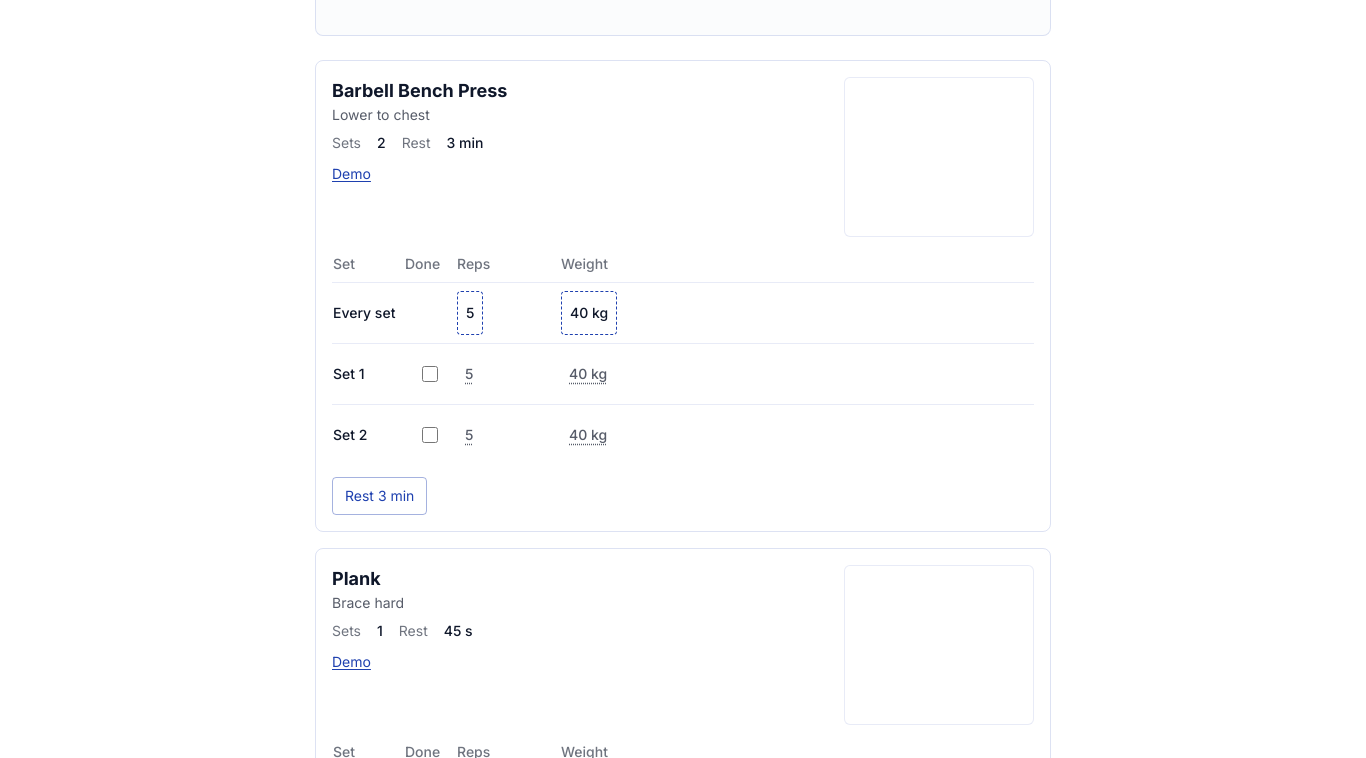
WorkoutApp › should start the rest timer automatically when a set is checked off
(page scrolled)
Click the checkbox named "Barbell Bench Press set 1".
click(430, 374)  # box [422,366,438,382]
(page scrolled)
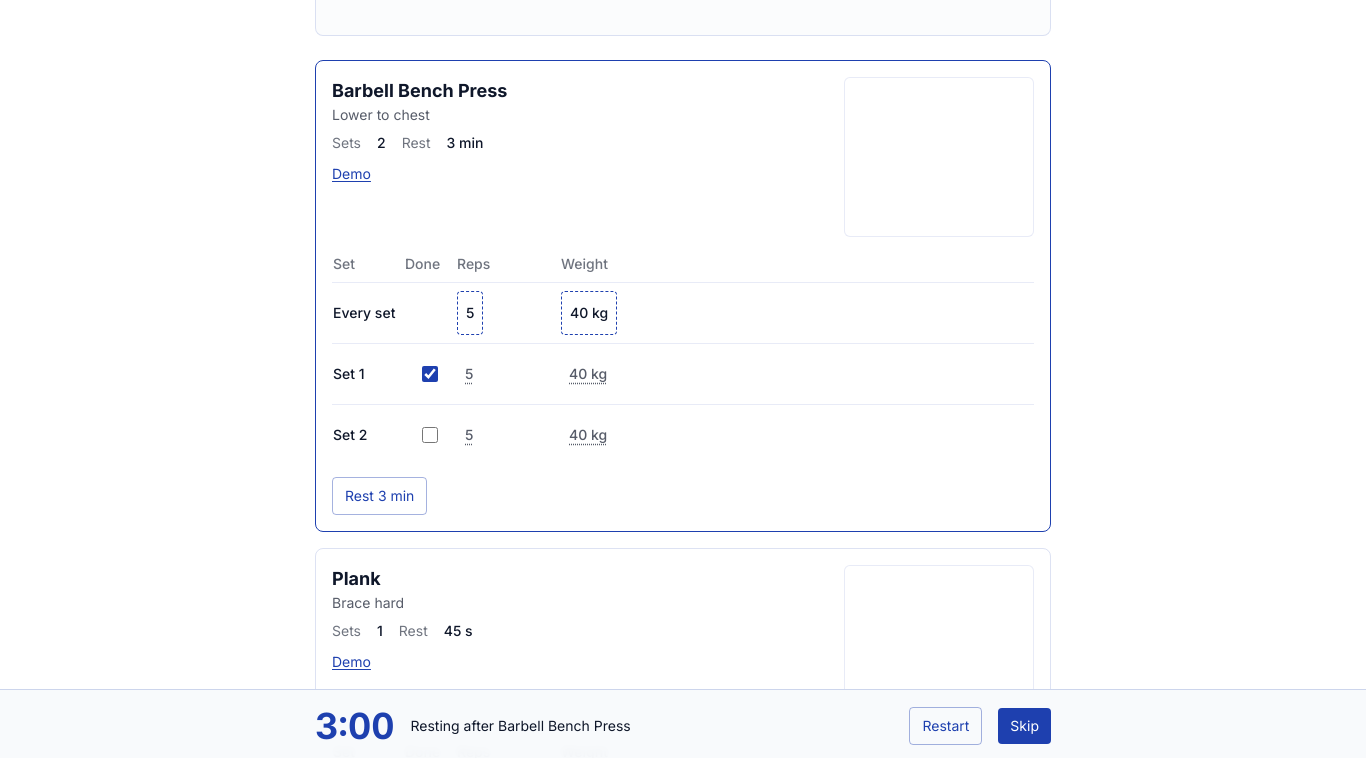
expect the text "3:00" is shown: met, box [315,706,394,746]
